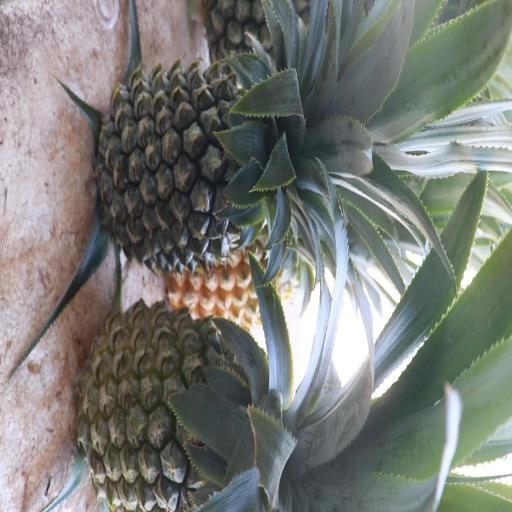------------------------------: (85, 303, 298, 508)
